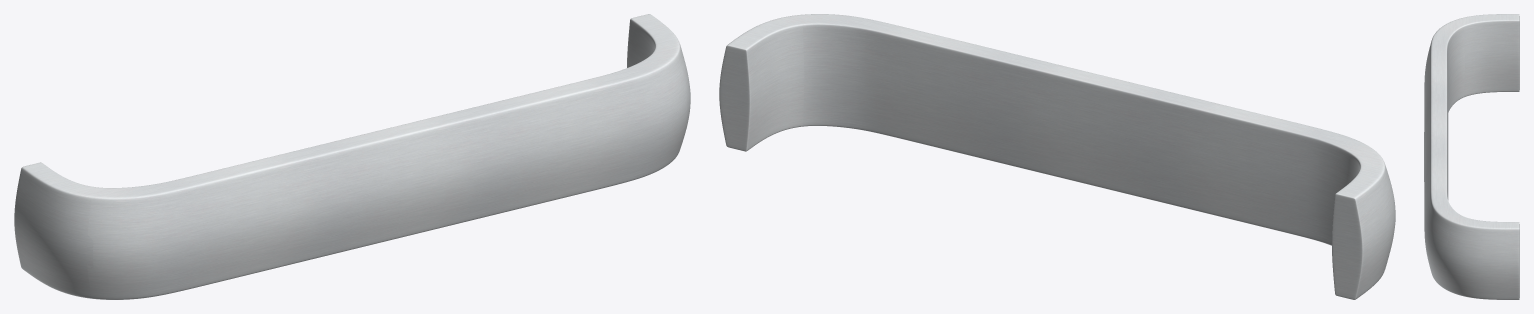
The picture shows the model from 3 angles, left to right: view 1: azimuth 30°, elevation 25°; view 2: azimuth 150°, elevation 25°; view 3: azimuth 270°, elevation 25°; orthographic projection. The views are drawn at different scales.
Parts seen in each view (by area): view 1: 067; view 2: 067; view 3: 067.
Part boxes in pixels (x1,y1,x2,y2): 067: (14, 14, 690, 299); 067: (719, 14, 1395, 299); 067: (1424, 14, 1519, 299).
Bounding box in the file's own units: 0.1638 × 0.0249 × 0.0301.
1 material, 1 textured.
